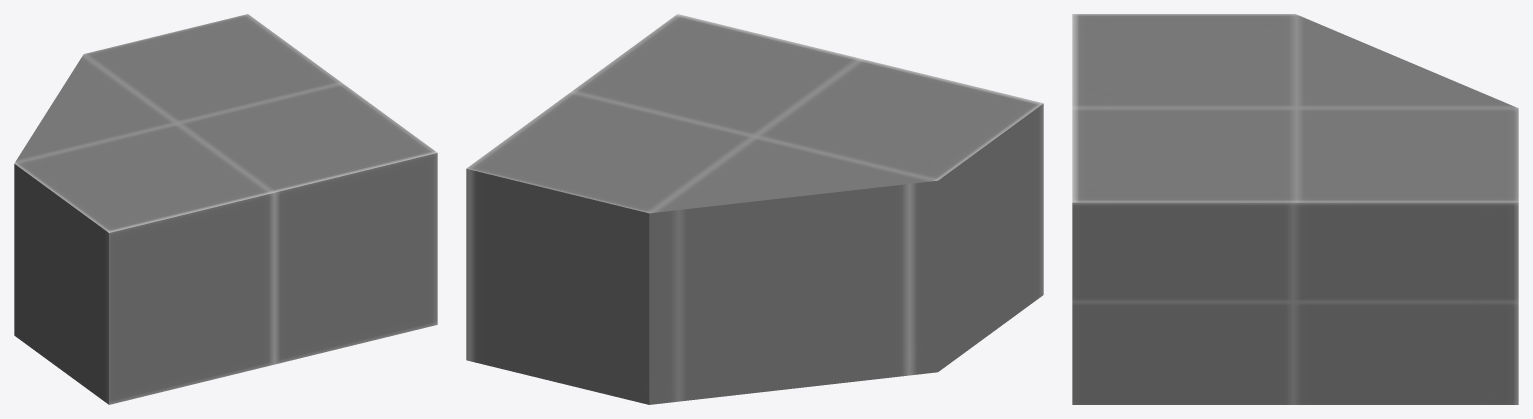
Rendered from BlockCorner_B.fbx.
3 renders of one model, left to right at view 1: azimuth 30°, elevation 25°; view 2: azimuth 150°, elevation 25°; view 3: azimuth 270°, elevation 25°, orthographic. The views are drawn at different scales.
Parts seen in each view (by area): view 1: Plateforme05; view 2: Plateforme05; view 3: Plateforme05.
Part boxes in pixels (bbox=[...]): Plateforme05: bbox=[14, 14, 437, 404]; Plateforme05: bbox=[466, 14, 1043, 404]; Plateforme05: bbox=[1072, 14, 1518, 404].
Bounding box in the file's own units: 8 × 8 × 4.
Materials: 1 (1 with a texture image).
